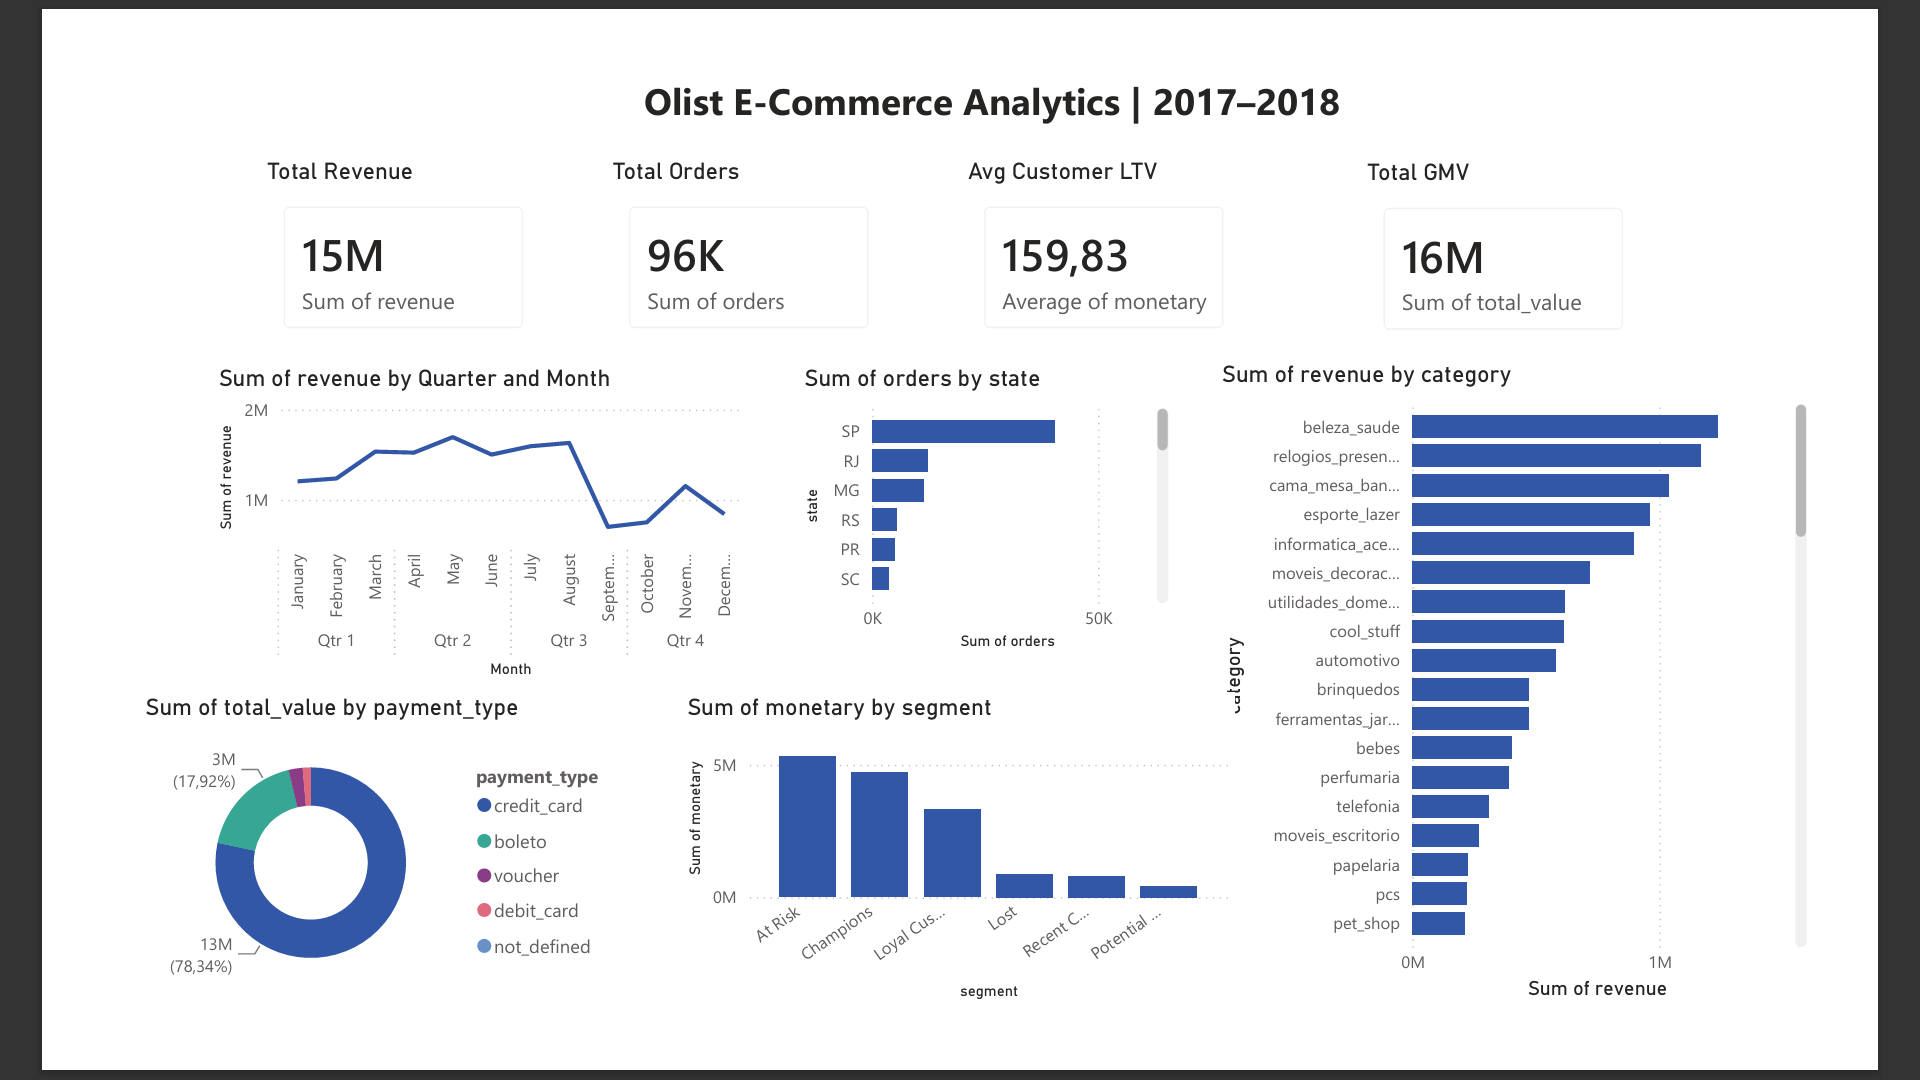

The page's visual inventory and layout, read from the dashboard file:
{"tool":"powerbi","page":{"name":"Page 1","canvas":[1280,720],"ordinal":0},"visuals":[{"type":"cardVisual","title":"Total Revenue","fields":{"Data":["Sum(monthly_revenue.revenue)"]},"box":[133.8,82.7,207.5,141.2],"z":0},{"type":"cardVisual","title":"Total Orders","fields":{"Data":["Sum(monthly_revenue.orders)"]},"box":[383.8,83,207.5,141.2],"z":1000},{"type":"cardVisual","title":"Total GMV","fields":{"Data":["Sum(payments.total_value)"]},"box":[930,84.2,207.5,141.2],"z":2000},{"type":"cardVisual","title":"Avg Customer LTV","fields":{"Data":["Avg(rfm_customers.monetary)"]},"box":[641.2,83,207.5,141.2],"z":3000},{"type":"lineChart","fields":{"Category":["monthly_revenue.month.Variation.Date Hierarchy.Quarter","monthly_revenue.month.Variation.Date Hierarchy.Month"],"Y":["Sum(monthly_revenue.revenue)"]},"box":[98.8,232.5,387.5,232.5],"z":4000},{"type":"clusteredBarChart","fields":{"Category":["categories.category"],"Y":["Sum(categories.revenue)"]},"box":[825,230,432.5,467.5],"z":5000},{"type":"donutChart","fields":{"Category":["payments.payment_type"],"Y":["Sum(payments.total_value)"]},"box":[46.2,471.2,355,226.2],"z":6000},{"type":"clusteredColumnChart","fields":{"Category":["rfm_customers.segment"],"Y":["Sum(rfm_customers.monetary)"]},"box":[437.5,471.2,401.2,226.2],"z":7000},{"type":"clusteredBarChart","fields":{"Category":["states.state"],"Y":["Sum(states.orders)"]},"box":[522.5,232.5,273.8,212.5],"z":8000},{"type":"textbox","box":[326.2,18.8,667.5,51.2],"z":9000}]}

Visuals, with their boxes in screenshot pixels (x1, y1, x2, y2), scaled from the page's 1280x720 canvas onto the 1920x1080 screenshot:
"Total Revenue" cardVisual: (left=201, top=124, right=512, bottom=336)
"Total Orders" cardVisual: (left=576, top=124, right=887, bottom=336)
"Total GMV" cardVisual: (left=1395, top=126, right=1706, bottom=338)
"Avg Customer LTV" cardVisual: (left=962, top=124, right=1273, bottom=336)
lineChart - monthly_revenue.month.Variation.Date Hierarchy.Quarter x monthly_revenue.month.Variation.Date Hierarchy.Month: (left=148, top=349, right=729, bottom=698)
clusteredBarChart - categories.category x Sum(categories.revenue): (left=1238, top=345, right=1886, bottom=1046)
donutChart - payments.payment_type x Sum(payments.total_value): (left=69, top=707, right=602, bottom=1046)
clusteredColumnChart - rfm_customers.segment x Sum(rfm_customers.monetary): (left=656, top=707, right=1258, bottom=1046)
clusteredBarChart - states.state x Sum(states.orders): (left=784, top=349, right=1194, bottom=668)
textbox: (left=489, top=28, right=1491, bottom=105)
